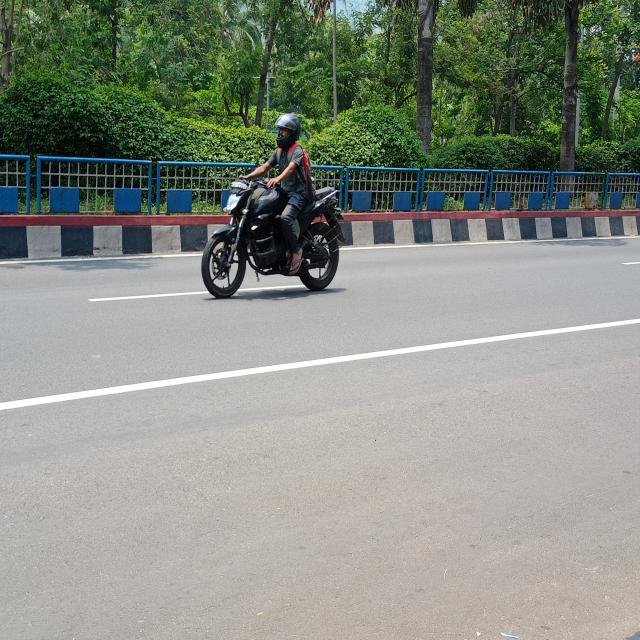car: (200, 177, 360, 297)
